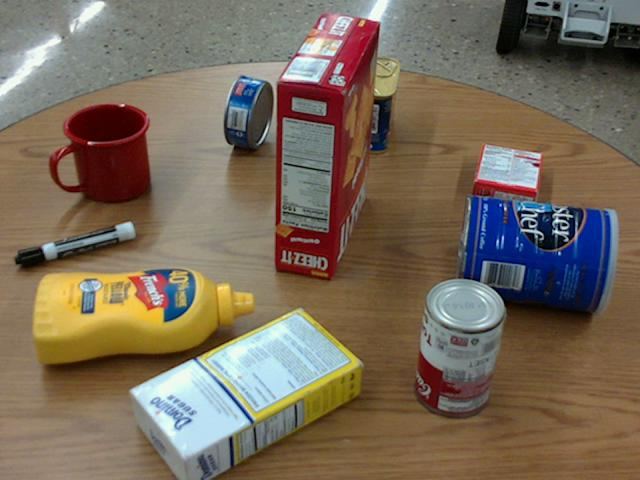cracker_box: (275, 12, 379, 276)
gelatin_box: (471, 142, 541, 208)
large_marker: (15, 220, 134, 267)
master_chef_can: (456, 192, 619, 311)
mug: (53, 104, 149, 203)
mustard_bottle: (33, 265, 253, 364)
potted_meat_can: (348, 56, 398, 153)
sugar_box: (126, 307, 360, 479)
tomato_soup_can: (416, 275, 506, 414)
tuna_fish_can: (222, 75, 273, 148)
